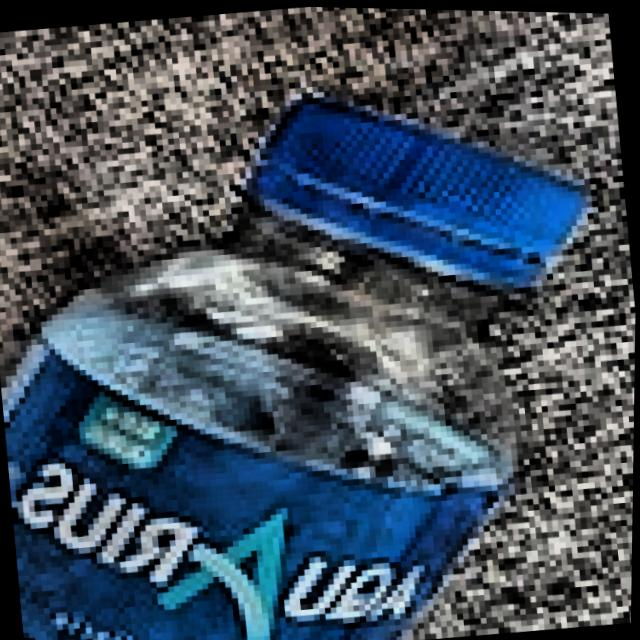plastic: (0, 37, 640, 640)
